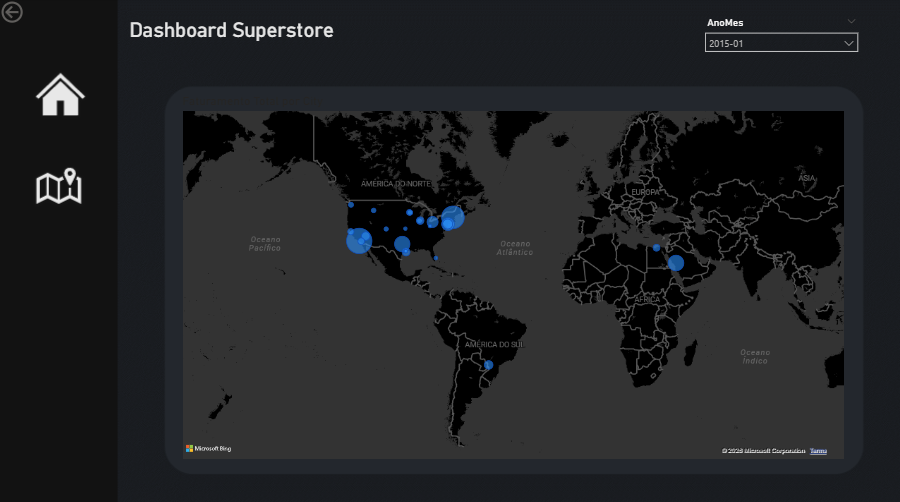

Layout of this report page (visuals, bound fields, positions):
{"tool":"powerbi","page":{"name":"Map","canvas":[1280,720],"ordinal":1},"visuals":[{"type":"slicer","fields":{"Values":["Calendario.AnoMes"]},"box":[992.8,21.8,236.9,63.8],"z":0},{"type":"actionButton","box":[0,0,100,40],"z":1000},{"type":"textbox","box":[181.4,22.9,318.6,62.9],"z":2000},{"type":"actionButton","box":[38.1,85.6,100.6,102.5],"z":3000},{"type":"actionButton","box":[38.6,218.4,100.8,95.7],"z":4000},{"type":"map","fields":{"Category":["Superstore.Country","Superstore.State","Superstore.City"],"Size":["Metricas.Faturamento Total"]},"box":[256,136,948,522],"z":5000}]}

Visuals, with their boxes on the page's 1280x720 design canvas (x1, y1, x2, y2). These are canvas units, not pixel positions in the 900x502 screenshot, which may show the page scaled, cropped or inside an application window:
slicer - Calendario.AnoMes: x1=993, y1=22, x2=1230, y2=86
actionButton: x1=0, y1=0, x2=100, y2=40
textbox: x1=181, y1=23, x2=500, y2=86
actionButton: x1=38, y1=86, x2=139, y2=188
actionButton: x1=39, y1=218, x2=139, y2=314
map - Superstore.Country x Superstore.State: x1=256, y1=136, x2=1204, y2=658
